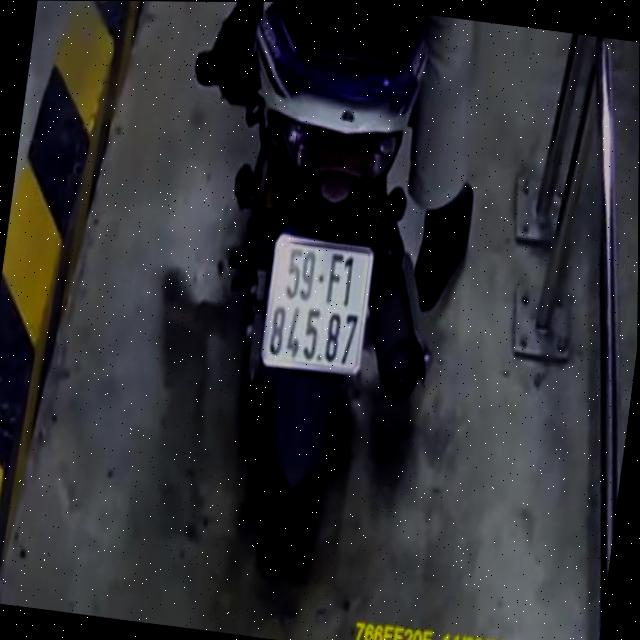motorcycle: (158, 1, 487, 590)
plate: (249, 219, 380, 382)
